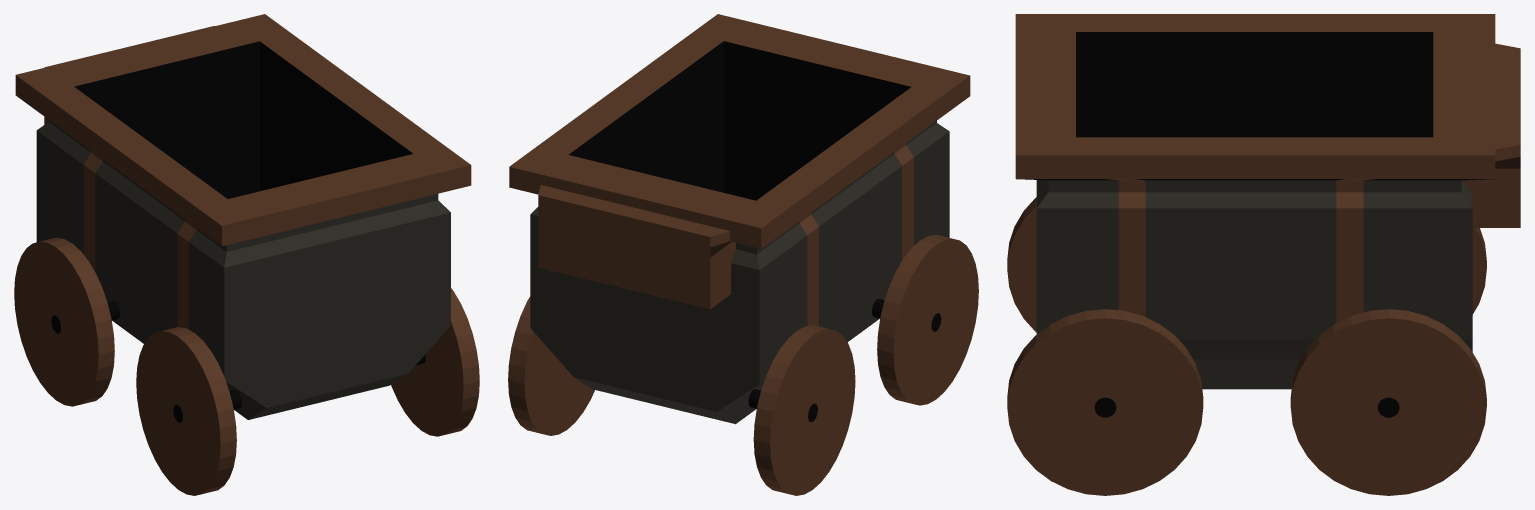
File: minecart.fbx
The picture shows the model from 3 angles, left to right: view 1: azimuth 30°, elevation 25°; view 2: azimuth 150°, elevation 25°; view 3: azimuth 270°, elevation 25°; orthographic projection. The views are drawn at different scales.
Parts seen in each view (by area): view 1: Cube, wheel.003, wheel.002, wheel; view 2: Cube, wheel.003, wheel.002, wheel.001; view 3: Cube, wheel, wheel.001, wheel.003, wheel.002.
Part boxes in pixels (x1,y1,x2,y2): Cube: (15, 14, 471, 419); wheel.003: (136, 327, 236, 495); wheel.002: (14, 237, 114, 406); wheel: (391, 288, 479, 436); Cube: (509, 14, 970, 424); wheel.003: (877, 234, 978, 405); wheel.002: (753, 325, 855, 495); wheel.001: (508, 296, 594, 435); Cube: (1015, 14, 1520, 389); wheel: (1007, 309, 1203, 495); wheel.001: (1290, 309, 1486, 495); wheel.003: (1007, 197, 1036, 332); wheel.002: (1472, 228, 1486, 314).
Bounding box in the file's own units: 160 × 171 × 236.
